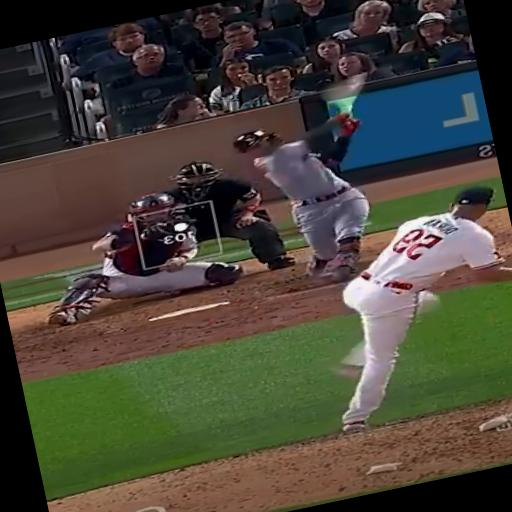bat: (320, 74, 365, 114)
